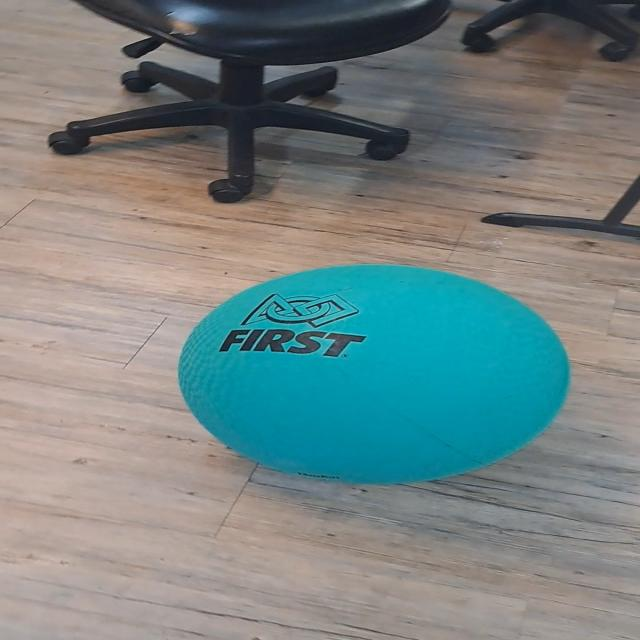ALGAE: (174, 262, 572, 486)
